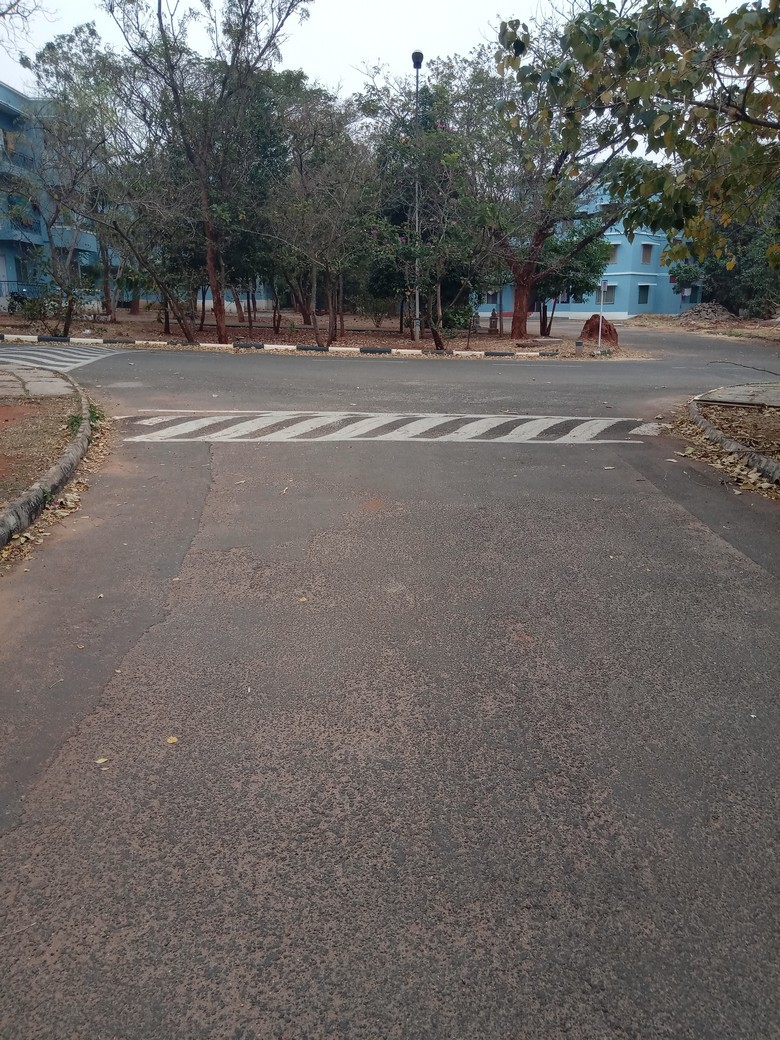bump: (95, 408, 687, 442)
